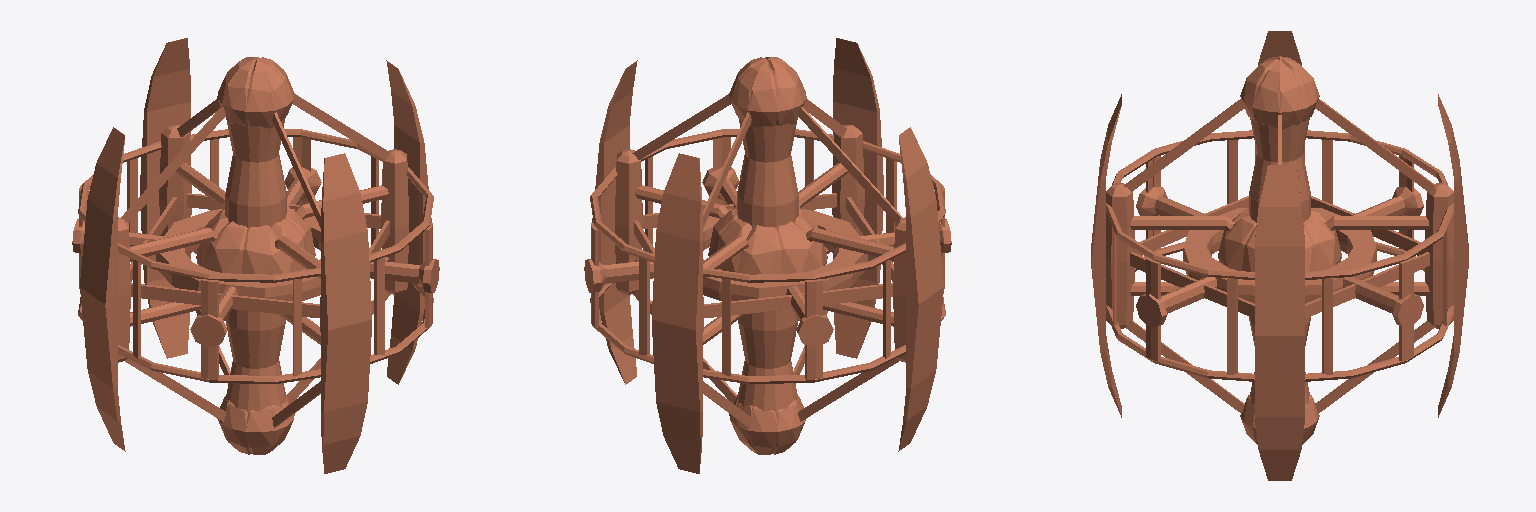
File: station.obj
3 views of the same model, side by side, from view 1: azimuth 30°, elevation 25°; view 2: azimuth 150°, elevation 25°; view 3: azimuth 270°, elevation 25° (orthographic).
Parts seen in each view (by area): view 1: Cylinder; view 2: Cylinder; view 3: Cylinder.
Boxes of the visible parts, x1,y1,x2,y2 form: Cylinder: [72, 38, 439, 473]; Cylinder: [584, 38, 951, 473]; Cylinder: [1091, 31, 1468, 480].
Size of the model in its own units: 12.17 by 14.04 by 12.17.